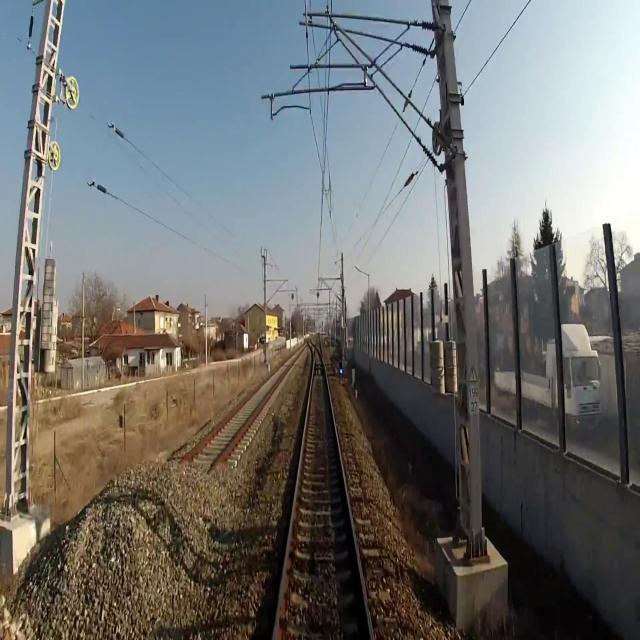rail-track: (283, 353, 361, 597), (185, 363, 288, 472)
